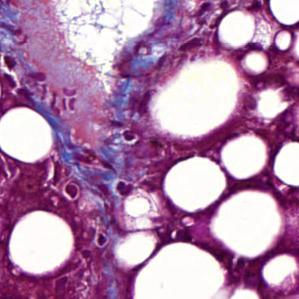steatosis: (8, 210, 75, 275), (164, 156, 228, 213), (0, 106, 56, 164)
